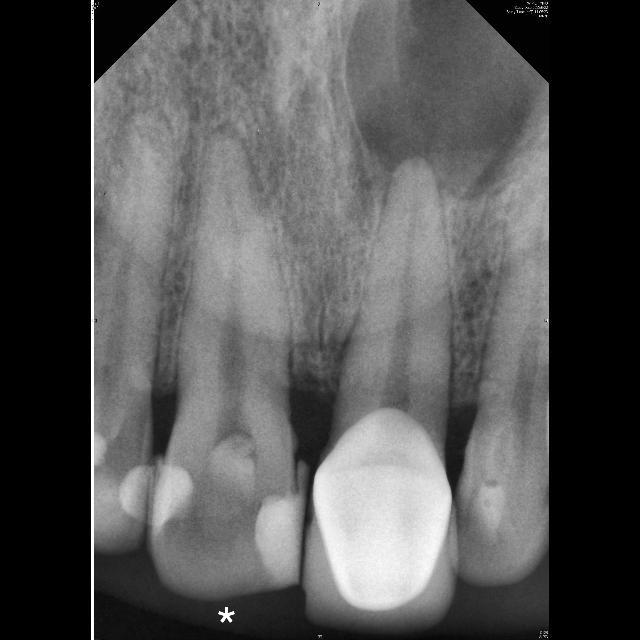test-segment: (151, 136, 305, 598)
